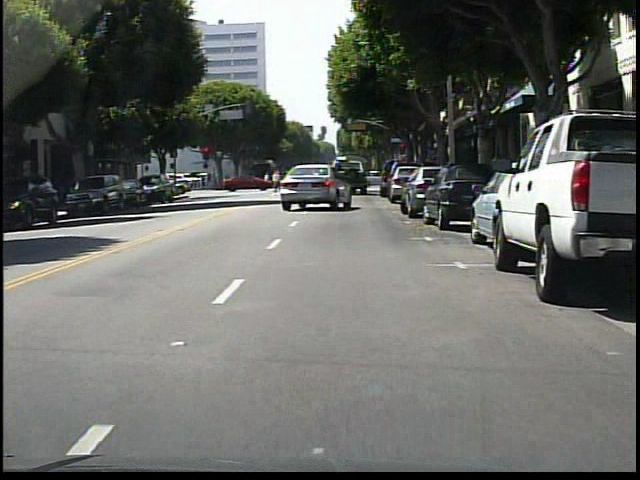person: (272, 170, 283, 194), (294, 167, 303, 193), (268, 172, 269, 190)
